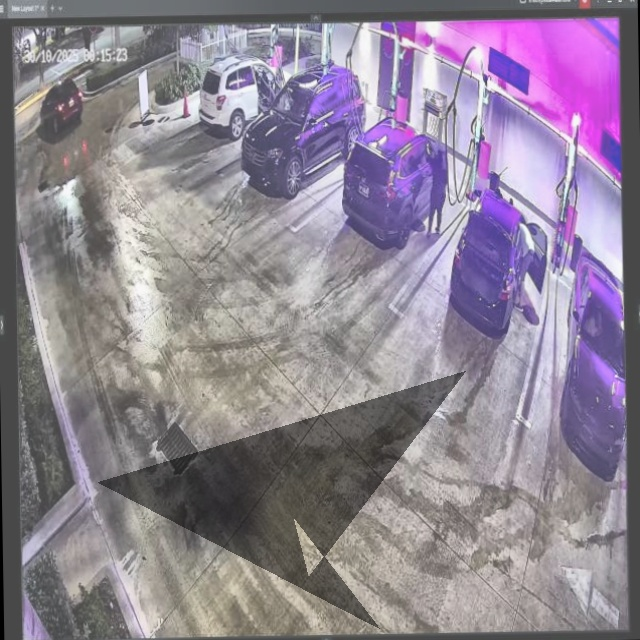Car: (242, 64, 368, 194), (440, 188, 546, 336), (343, 113, 448, 252)
